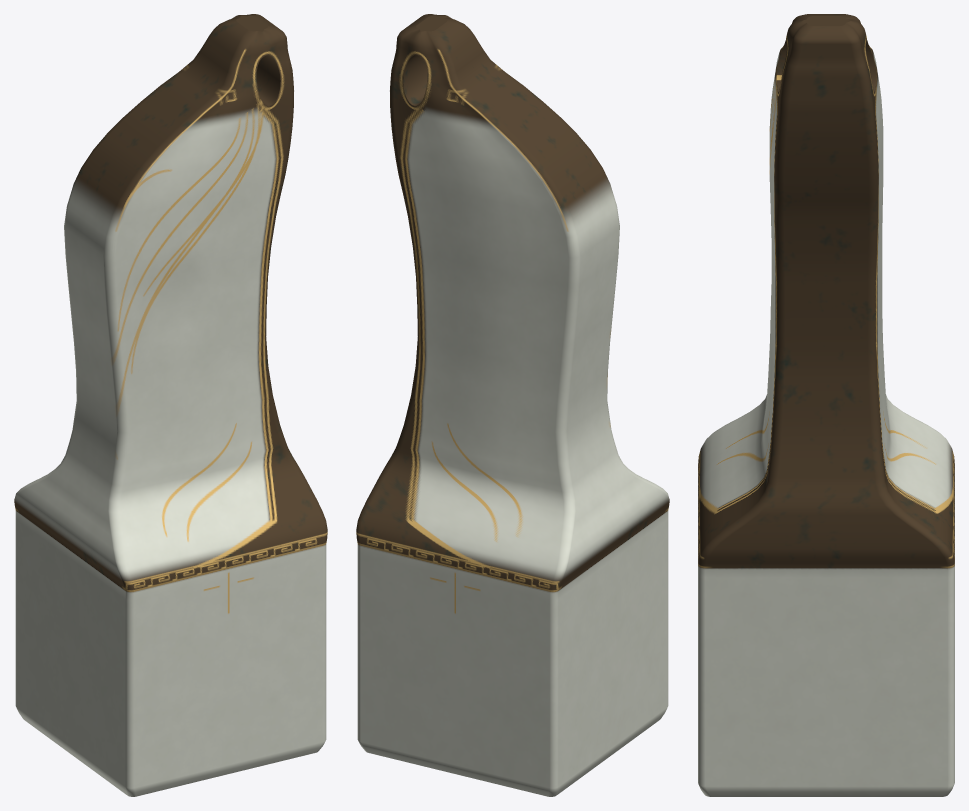
File: QingGuiR01.glb
3 renders of one model, left to right at view 1: azimuth 30°, elevation 25°; view 2: azimuth 150°, elevation 25°; view 3: azimuth 270°, elevation 25°, orthographic. The views are drawn at different scales.
Parts seen in each view (by area): view 1: QingGui_LOD0; view 2: QingGui_LOD0; view 3: QingGui_LOD0.
Part boxes in pixels (x1,y1,x2,y2): QingGui_LOD0: (14, 14, 327, 796); QingGui_LOD0: (356, 14, 669, 796); QingGui_LOD0: (698, 14, 954, 796).
Size of the model in its own units: 0.111 by 0.35 by 0.106.
Materials: 1 (1 with a texture image).
